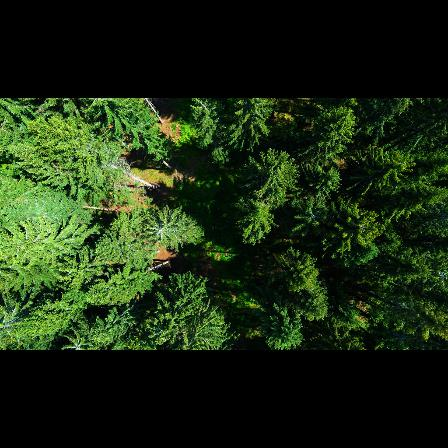Sick: (139, 208, 184, 253)
